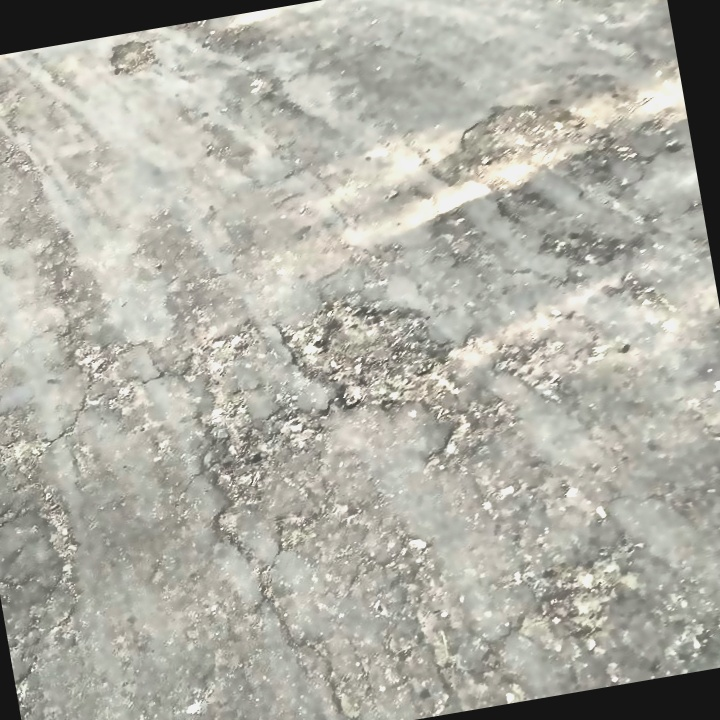pothole: (292, 281, 471, 426), (453, 90, 591, 170), (103, 33, 166, 81)
